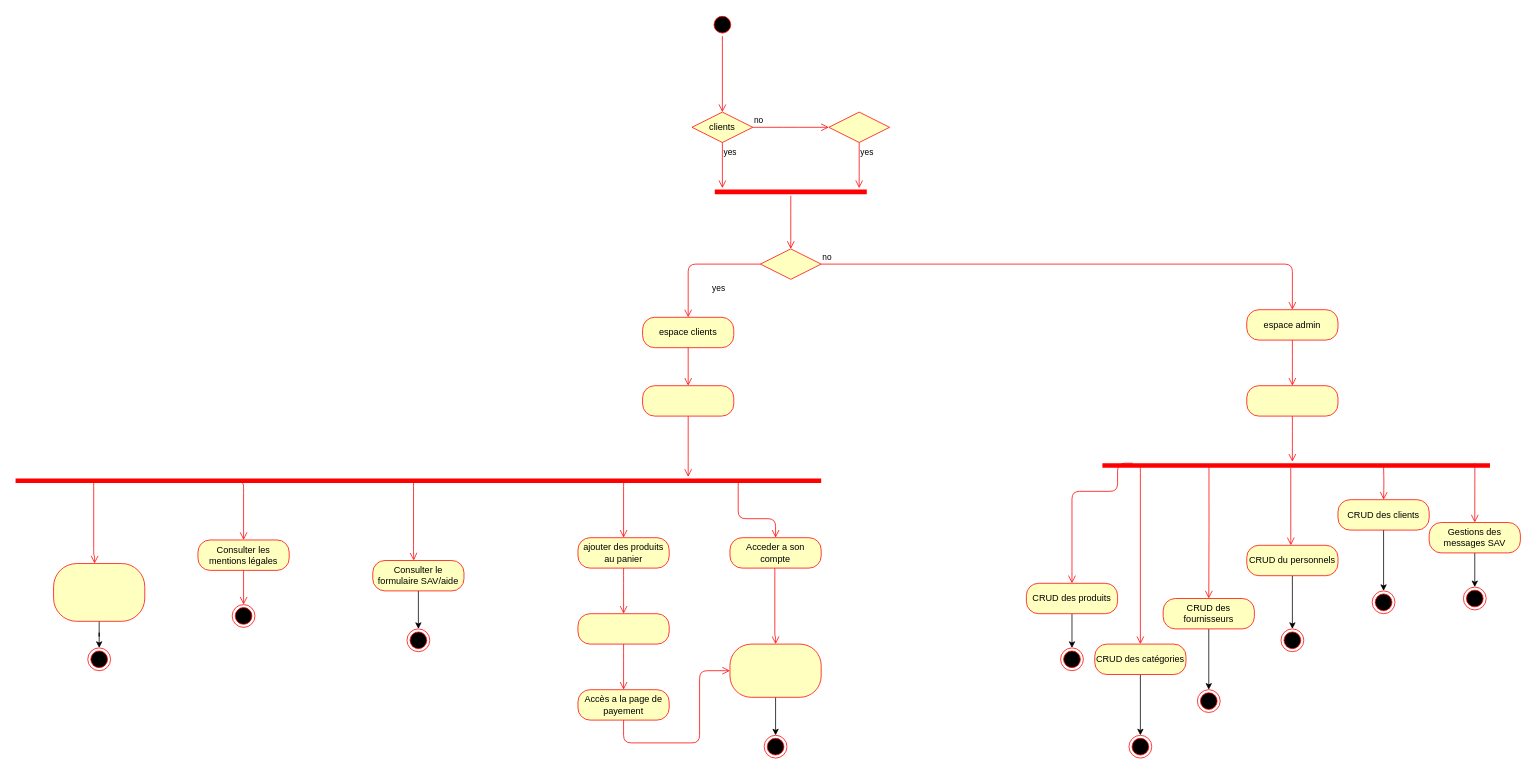
The diagram is 1534 pixels wide and 771 high, and some of its shapes have lost their labels. The centre of each missing label's shape, as x and y in pixels:
"Acces au commande en cours ou anciennes" belongs at point (775, 670).
"accueil" belongs at point (790, 263).
"accès à la page de livraison" belongs at point (623, 628).
"admin" belongs at point (859, 126).
"Consulter les partenaires via les liens présent sur la page d'acceuil" belongs at point (99, 592).
"se connecter" belongs at point (1292, 400).
"se connecter/s'inscrire" belongs at point (688, 400).
